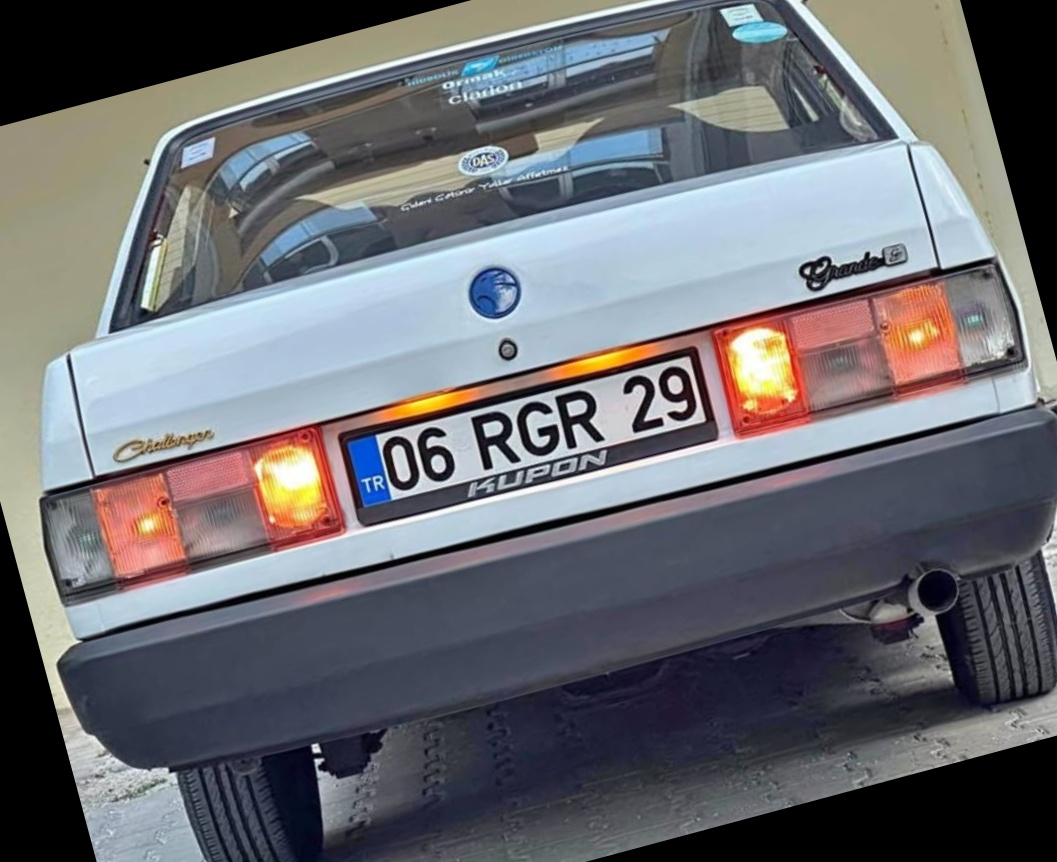plaka: (358, 360, 711, 476)
